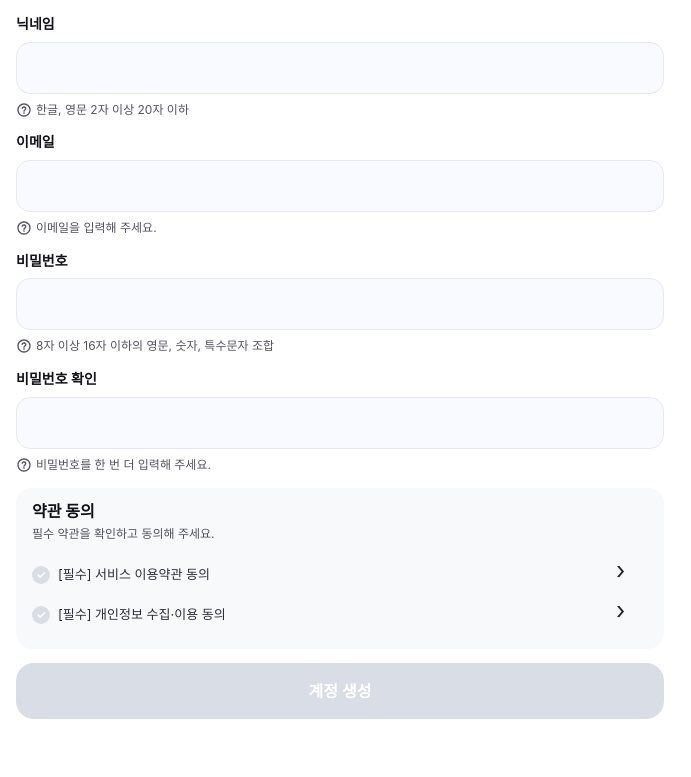
Test: SignupView 회원가입 화면 › 상단 체크를 누르면 동의 처리 전 약관 설명부터 펼친다
The width and height of the screenshot is (691, 777).
What coordinates should you click on to do the following:
click the 1st text with class "term-checkbox"
I would click on:
 (41, 575)
Its box is top-left (32, 566), bottom-right (50, 584).
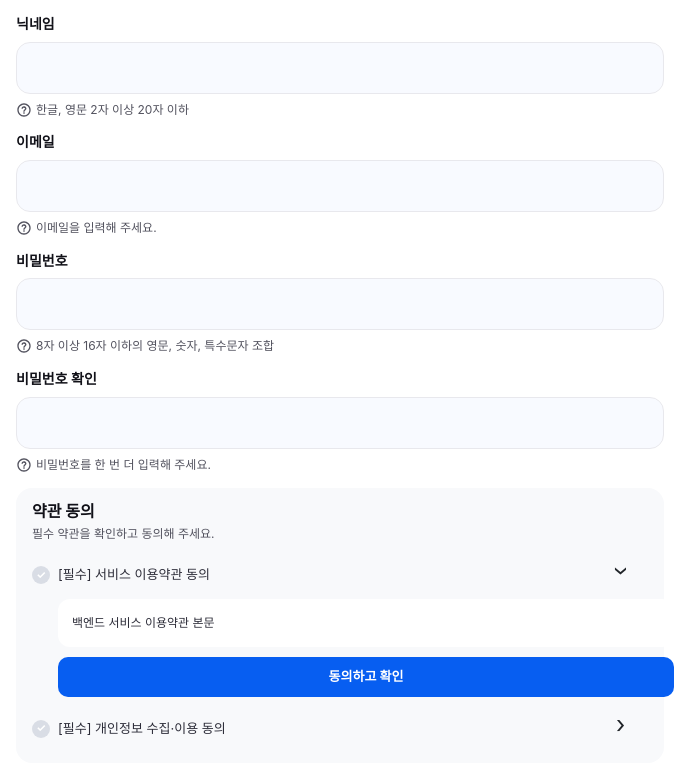
Expected: the element with class "term-accordion" shows "백엔드 서비스 이용약관 본문", top-left (72, 615), bottom-right (215, 630)
Expected: the checkbox with class "term-row" is expanded, top-left (32, 555), bottom-right (648, 595)
